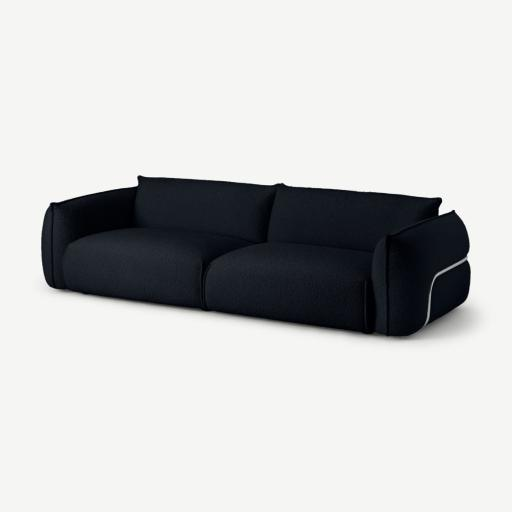back_cushion: (132, 176, 440, 250)
left_arm: (372, 212, 470, 335)
right_arm: (42, 188, 136, 289)
seat_cushion: (64, 228, 374, 333)
two-seater: (0, 0, 511, 512)
